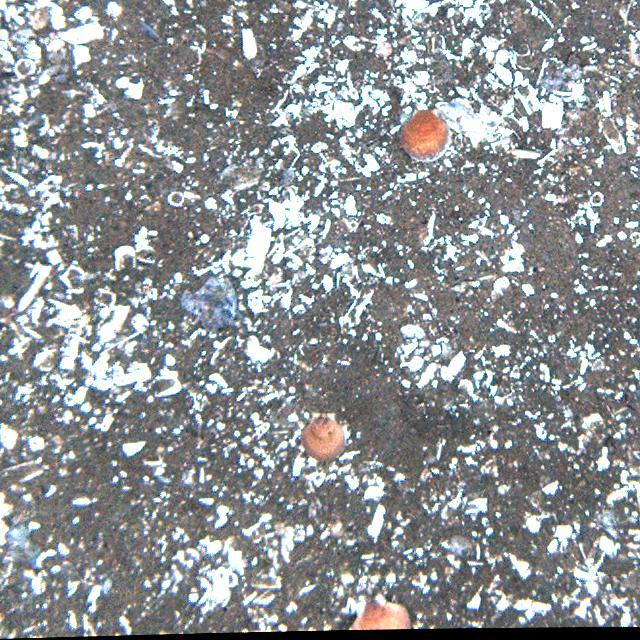scallop: (389, 108, 450, 161), (303, 413, 347, 463), (353, 594, 413, 629)
